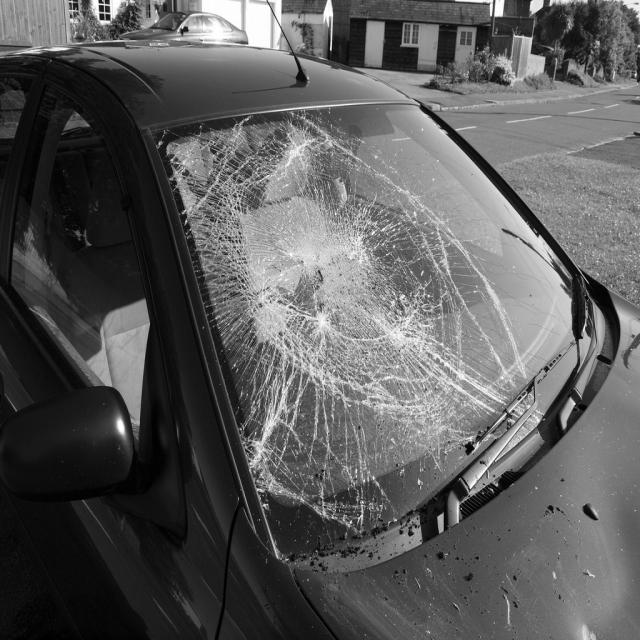crack: (151, 110, 531, 531)
